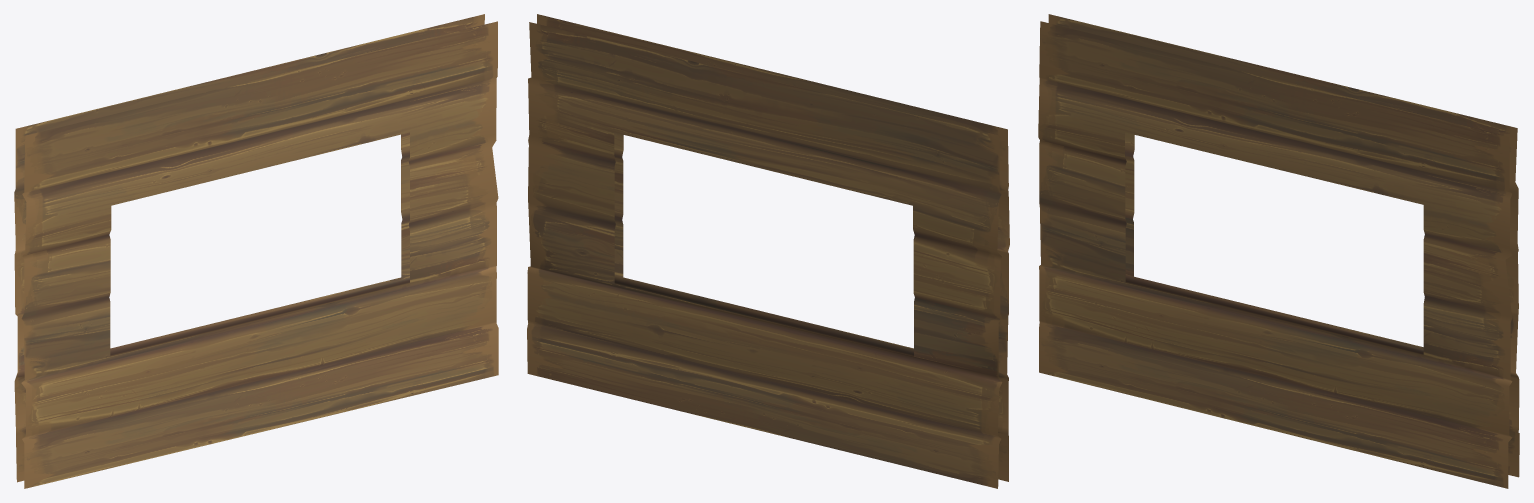
File: SM_MOD_wall_doublewindow_planks_hor_town.fbx
3 views of the same model, side by side, from view 1: azimuth 30°, elevation 25°; view 2: azimuth 150°, elevation 25°; view 3: azimuth 330°, elevation 25° (orthographic).
Visible parts, largest first — view 1: SM_MOD_wall_doublewindow_planks_hor_town; view 2: SM_MOD_wall_doublewindow_planks_hor_town; view 3: SM_MOD_wall_doublewindow_planks_hor_town.
Part boxes in pixels (x1,y1,x2,y2): SM_MOD_wall_doublewindow_planks_hor_town: (14,14,498,488); SM_MOD_wall_doublewindow_planks_hor_town: (527,14,1009,488); SM_MOD_wall_doublewindow_planks_hor_town: (1038,14,1519,488).
Bounding box in the file's own units: 390 × 278 × 18.07.
